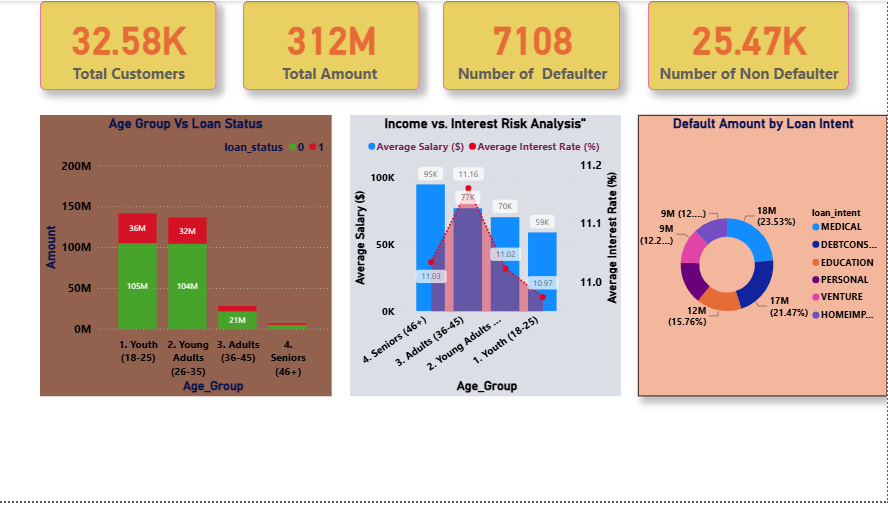

This screenshot's page, from the dashboard's own definition file:
{"tool":"powerbi","page":{"name":"Page 1","canvas":[1280,720],"ordinal":0},"visuals":[{"type":"card","fields":{"Values":["CountNonNull(Bank_Risk_Final_Data.loan_status)"]},"box":[58.8,0,253.6,127.7],"z":0},{"type":"card","fields":{"Values":["Sum(Bank_Risk_Final_Data.loan_amnt)"]},"box":[351.1,0,253.6,127.7],"z":1000},{"type":"card","fields":{"Values":["CountNonNull(Bank_Risk_Final_Data.loan_status)"]},"box":[640,0,255.3,127.7],"z":2000},{"type":"card","fields":{"Values":["CountNonNull(Bank_Risk_Final_Data.loan_status)"]},"box":[934,0,288.9,127.7],"z":3000},{"type":"columnChart","title":"Age Group Vs Loan Status","fields":{"Category":["Bank_Risk_Final_Data.Age_Group"],"Series":["Bank_Risk_Final_Data.loan_status"],"Y":["Sum(Bank_Risk_Final_Data.loan_amnt)"]},"box":[58.8,164.6,419.9,404.8],"z":4000},{"type":"donutChart","title":"Default Amount by Loan Intent","fields":{"Category":["Bank_Risk_Final_Data.loan_intent"],"Y":["Sum(Bank_Risk_Final_Data.loan_amnt)"]},"box":[920.5,164.6,359.5,404.8],"z":5000},{"type":"lineClusteredColumnComboChart","title":"Income vs. Interest Risk Analysis\"","fields":{"Category":["Bank_Risk_Final_Data.Age_Group"],"Y":["Avg(Bank_Risk_Final_Data.person_income)"],"Y2":["Avg(Bank_Risk_Final_Data.loan_int_rate)"]},"box":[505.6,164.6,389.7,404.8],"z":5001}]}

Visuals, with their boxes in screenshot pixels (x1, y1, x2, y2), scaled from the page's 1280x720 canvas onto the 888x505 screenshot:
card - CountNonNull(Bank_Risk_Final_Data.loan_status): (left=41, top=0, right=217, bottom=90)
card - Sum(Bank_Risk_Final_Data.loan_amnt): (left=244, top=0, right=420, bottom=90)
card - CountNonNull(Bank_Risk_Final_Data.loan_status): (left=444, top=0, right=621, bottom=90)
card - CountNonNull(Bank_Risk_Final_Data.loan_status): (left=648, top=0, right=848, bottom=90)
"Age Group Vs Loan Status" columnChart: (left=41, top=115, right=332, bottom=399)
"Default Amount by Loan Intent" donutChart: (left=639, top=115, right=887, bottom=399)
"Income vs. Interest Risk Analysis"" lineClusteredColumnComboChart: (left=351, top=115, right=621, bottom=399)
